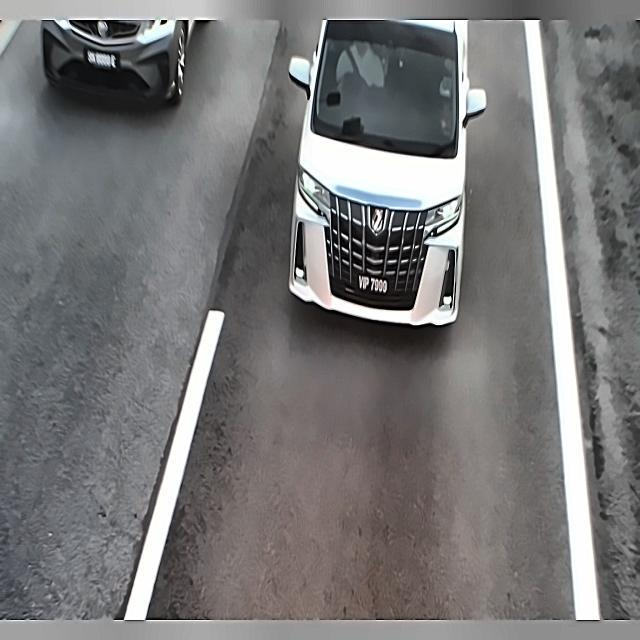car: (80, 44, 121, 76), (353, 269, 390, 302)
